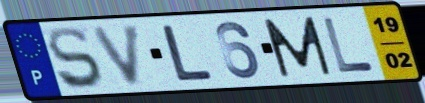6: (214, 19, 262, 81)
L: (159, 23, 217, 83), (320, 16, 377, 74)
M: (260, 14, 335, 79)
S: (45, 25, 106, 92)
V: (88, 22, 144, 88)
